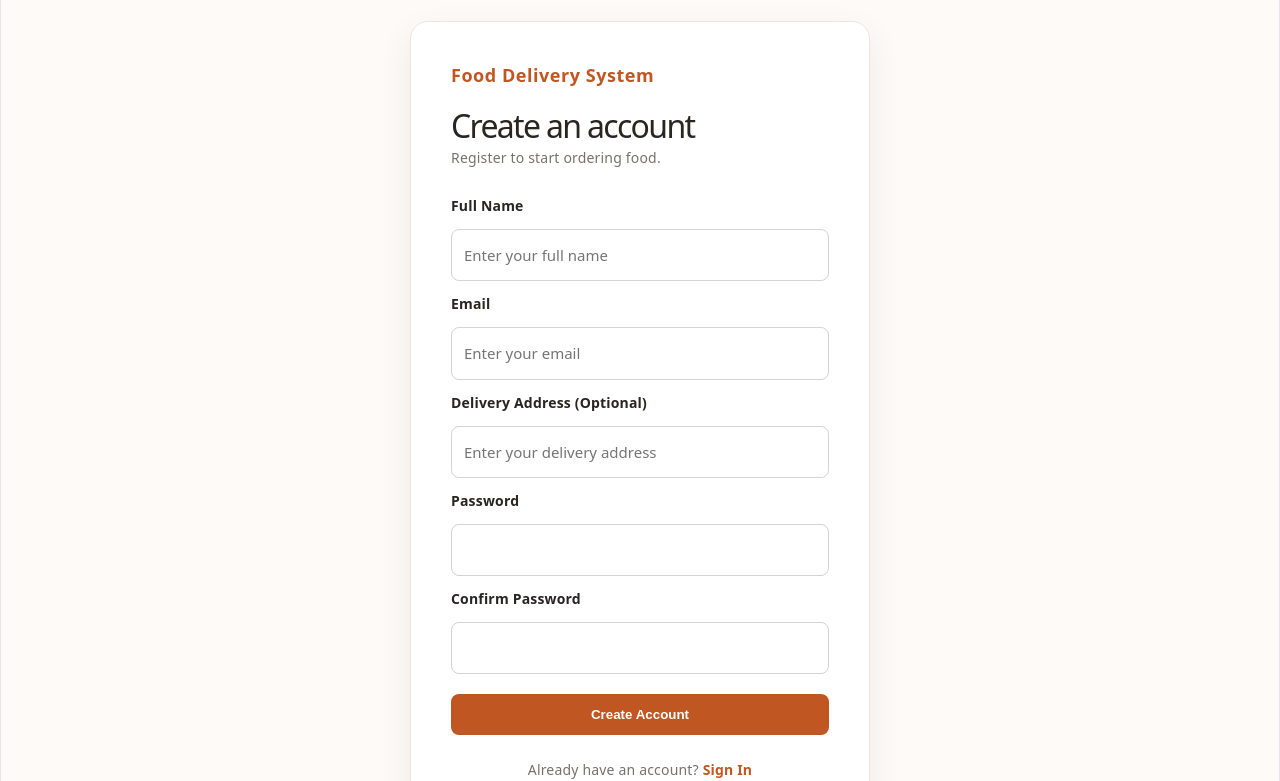
Scenario: Authentication › rejects mismatched passwords
Type "Test Customer" into the field labelled "Full Name" at x=640, y=255, box [451, 229, 829, 281]
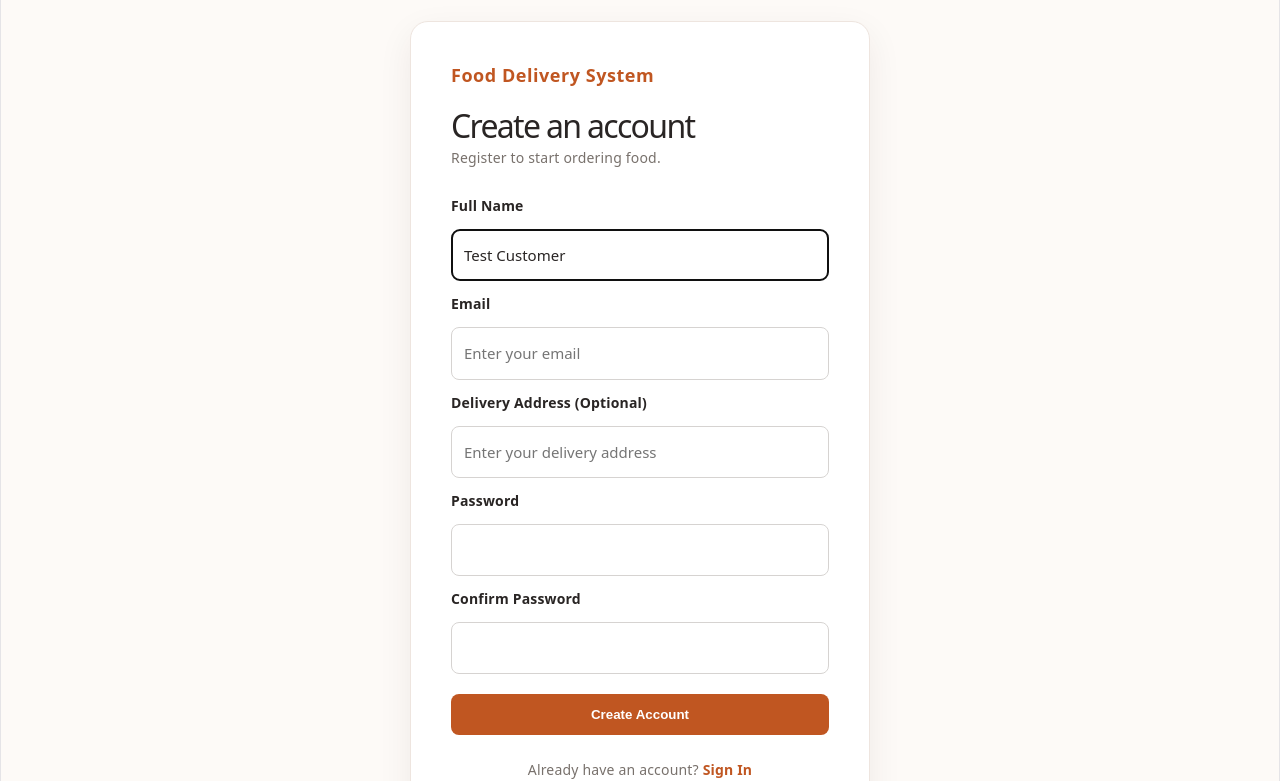
Type "customer@example.com" into the field labelled "Email" at x=640, y=354, box [451, 328, 829, 380]
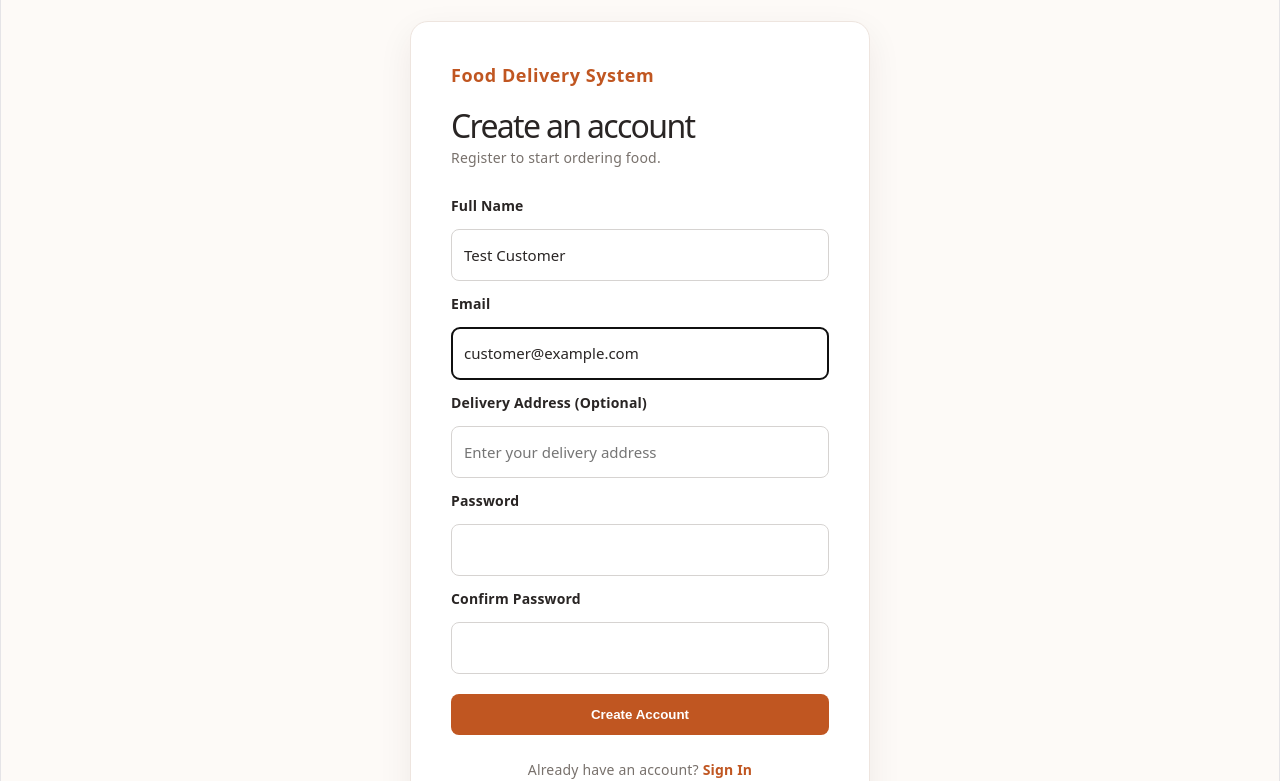
Type "password123" into the password field labelled "Password" at x=640, y=550, box [451, 524, 829, 576]
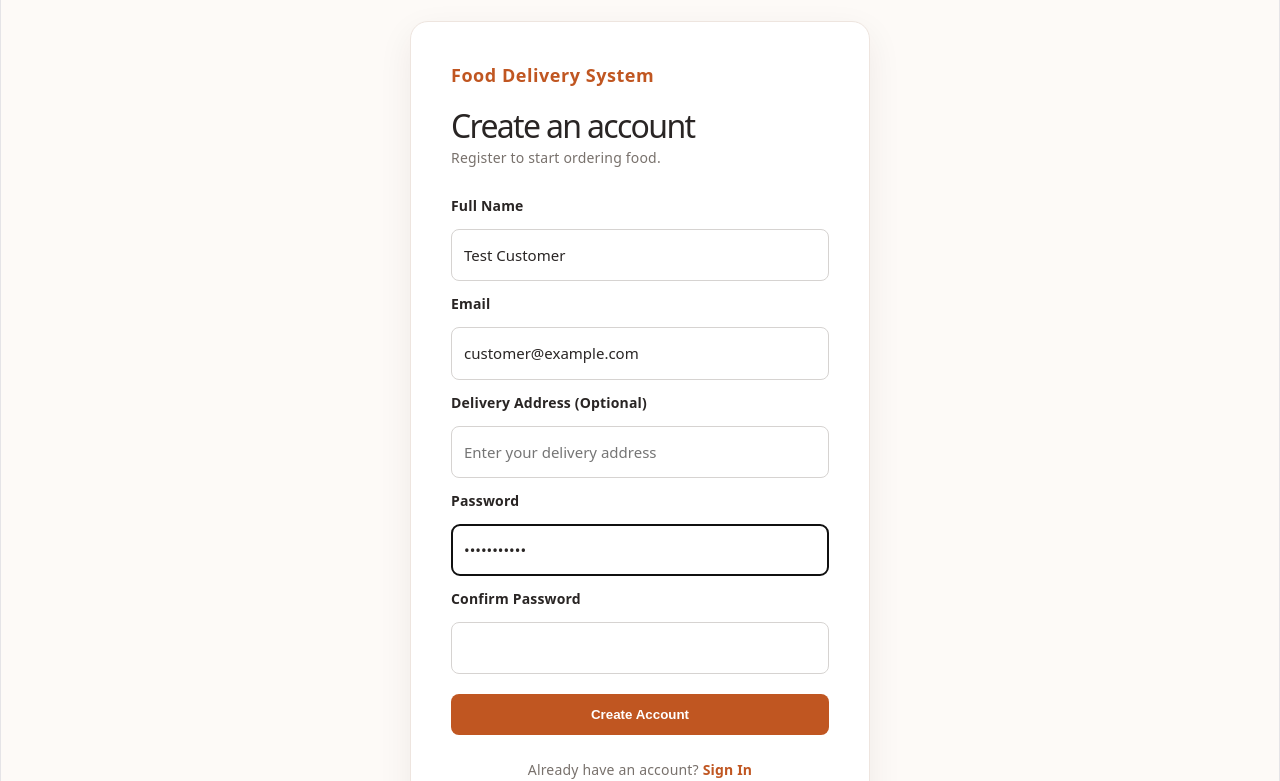
Type "password123" into the password field labelled "Confirm Password" at x=640, y=648, box [451, 622, 829, 674]
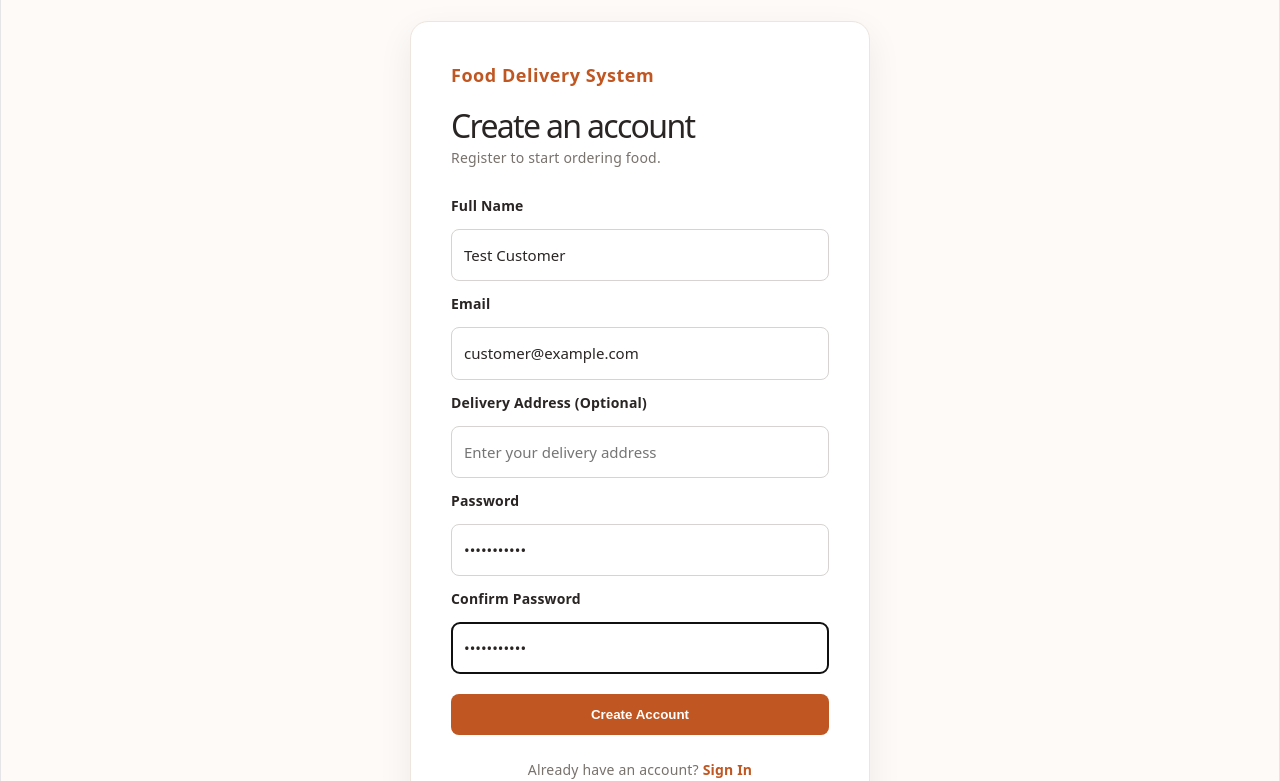
Type "different123" into the password field labelled "Confirm Password" at x=640, y=648, box [451, 622, 829, 674]
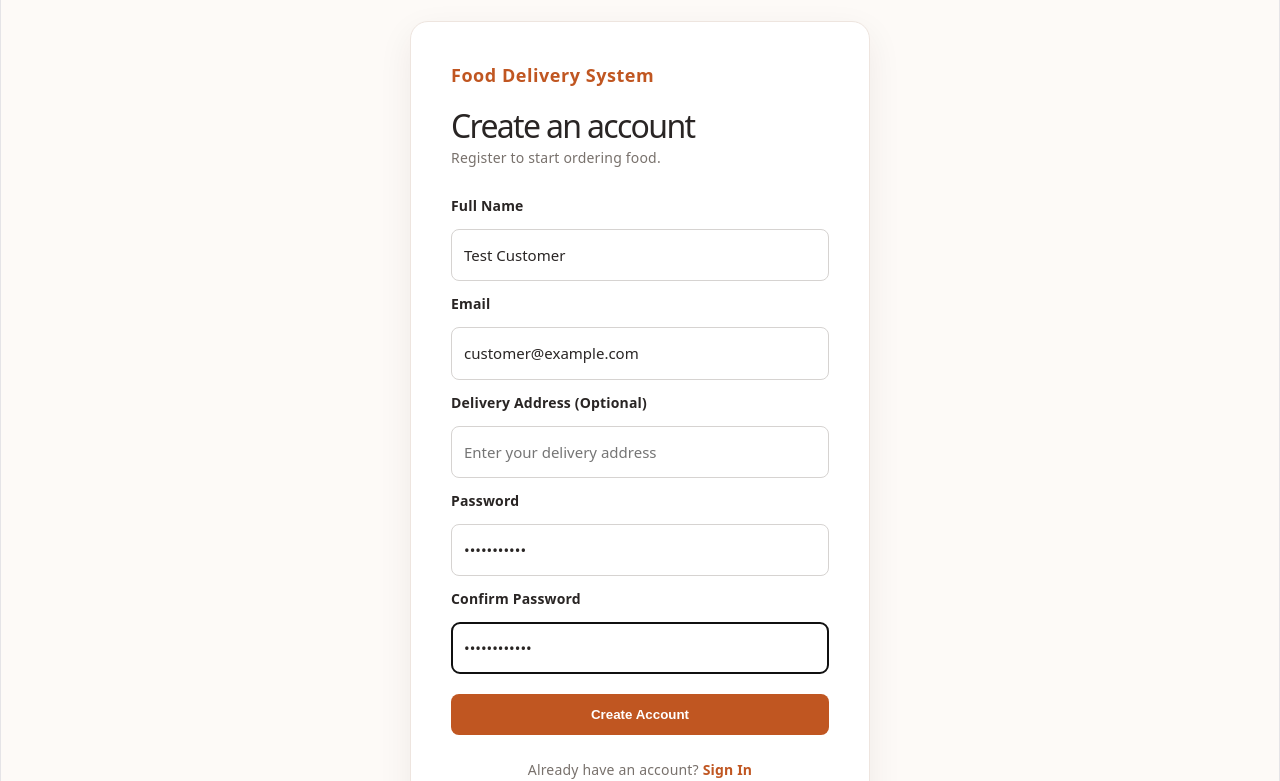
Click the button "Create Account" at x=640, y=715, box [451, 694, 829, 735]
(page scrolled)
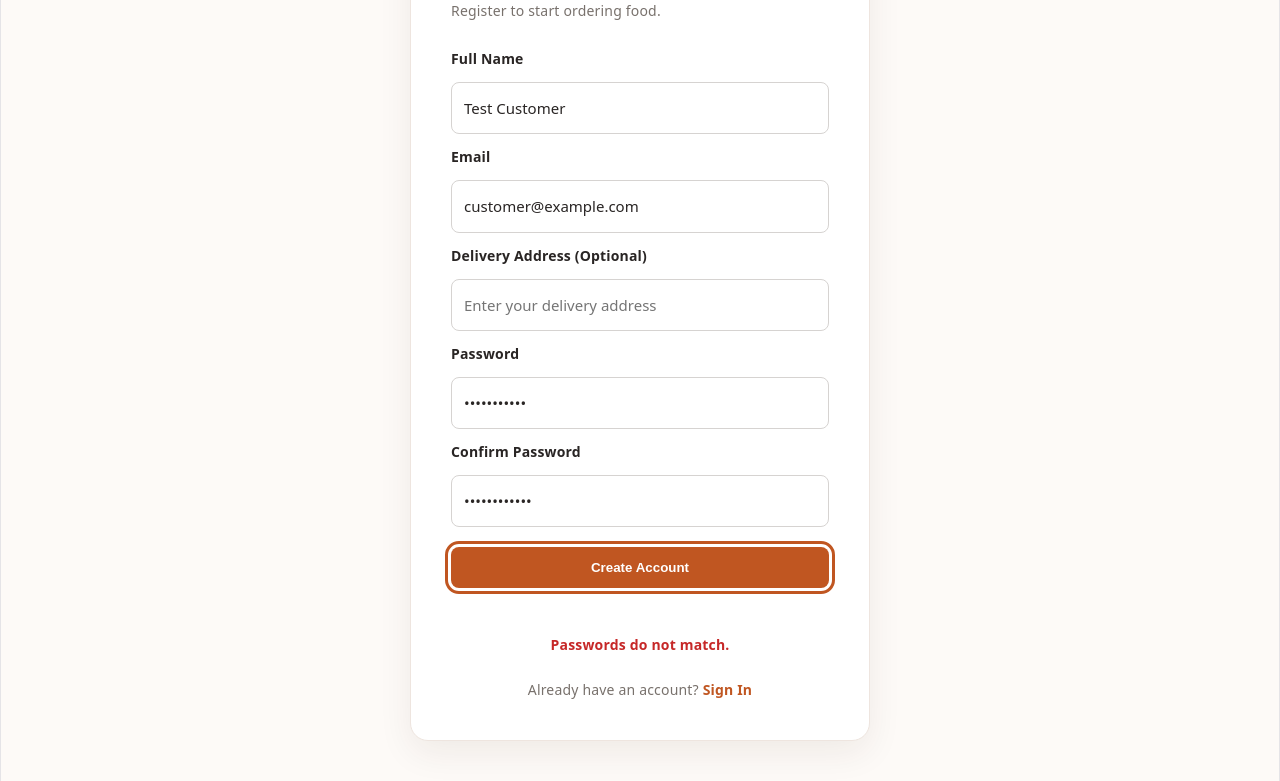
Expected: the message reads "Passwords do not match.", [550, 635, 729, 654]
